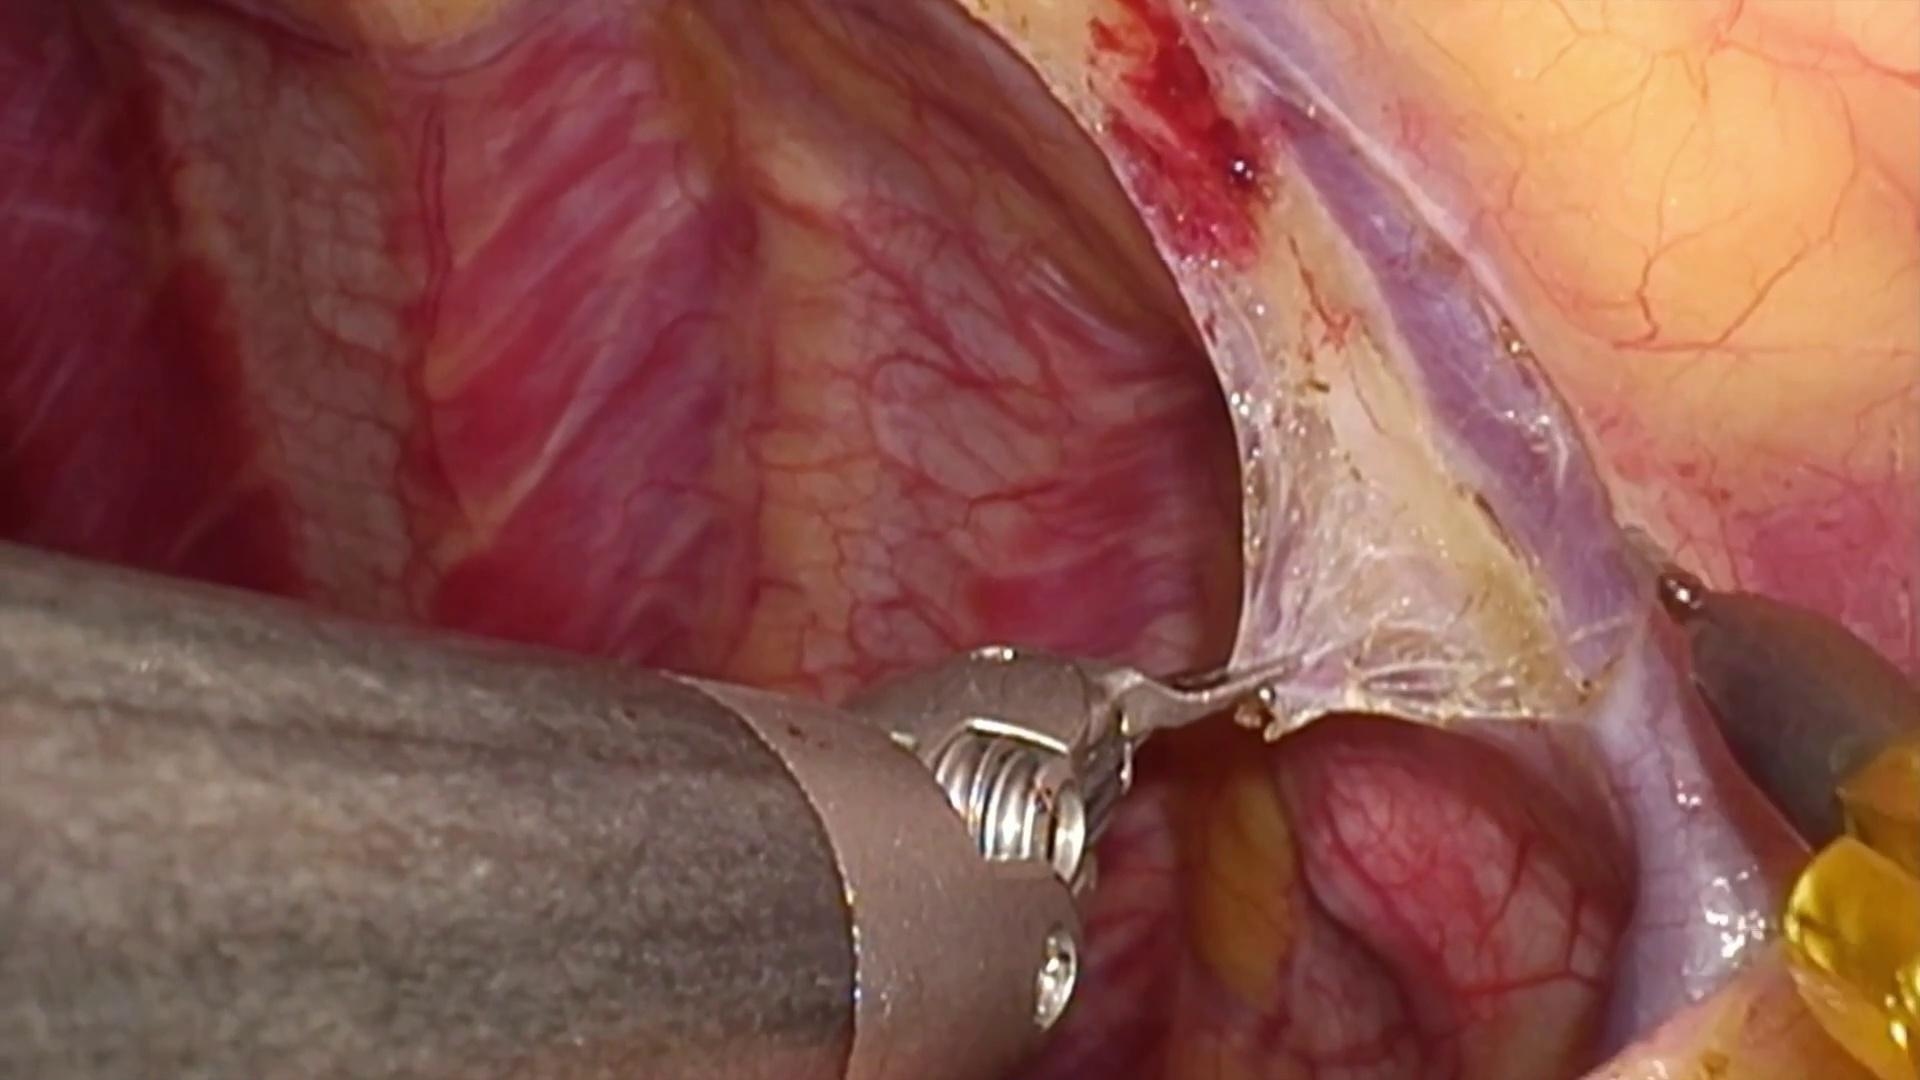Cautery_Spatula: (1602, 510, 1920, 836)
Debakey: (1077, 634, 1309, 774)
